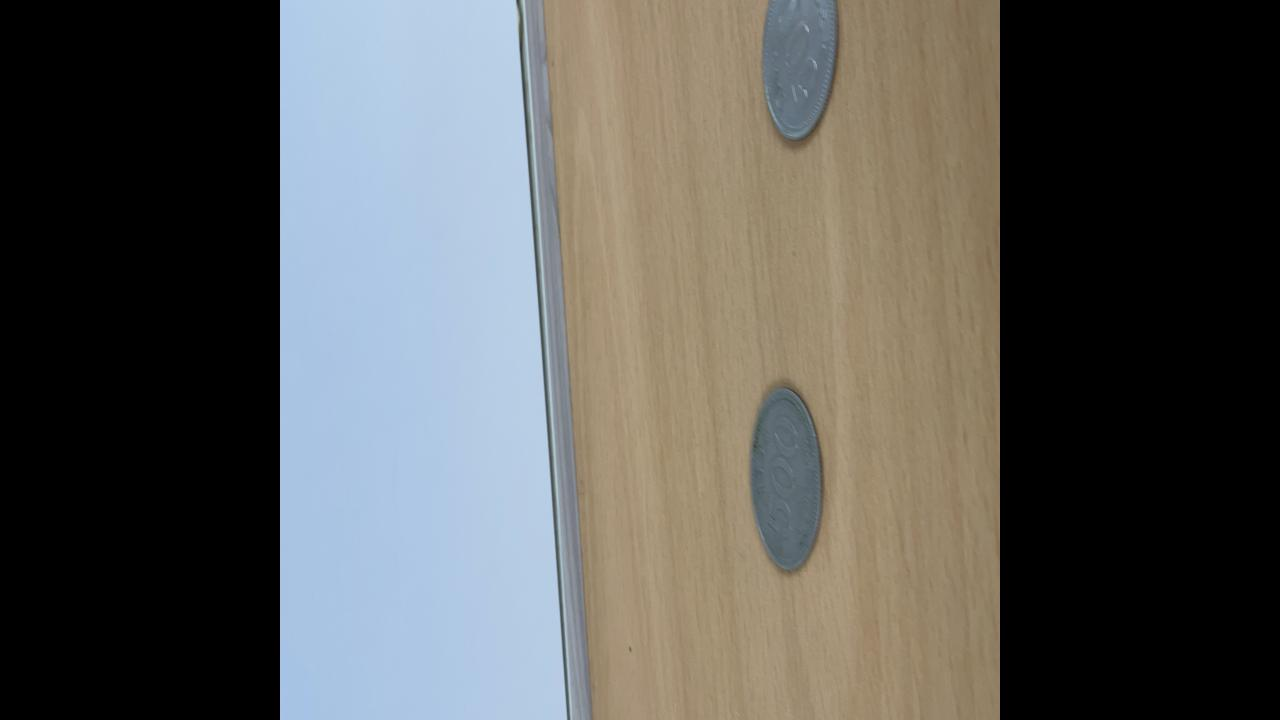coin: (746, 378, 824, 578), (761, 0, 839, 145)
